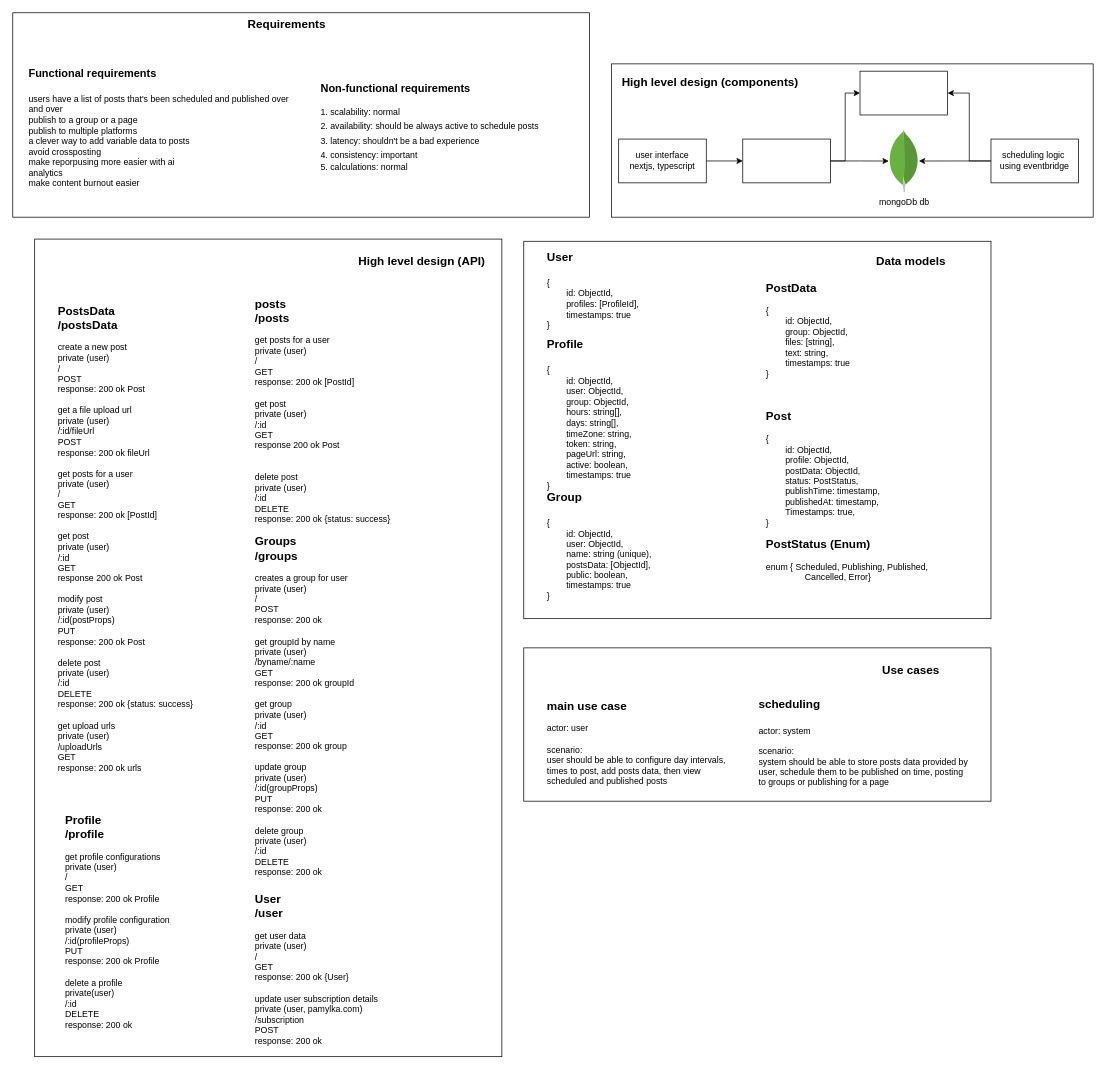
This 1107x1069 diagram has some shape labels left out. The shapes that lost their labels are listed below. From the top down, each one's box as (x1, y1, x2, y2) in pixels, then its label:
(859, 70, 948, 115): s3 file storage
(742, 138, 830, 183): backend api server expressjs, typescript
